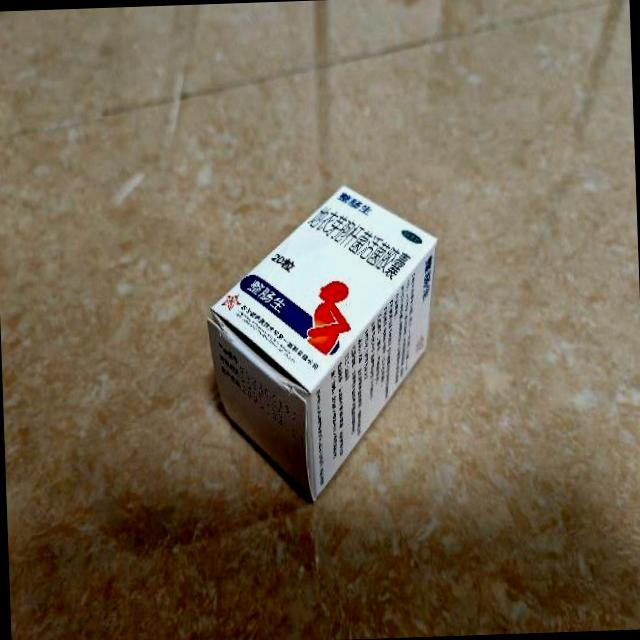box: (204, 181, 446, 504)
